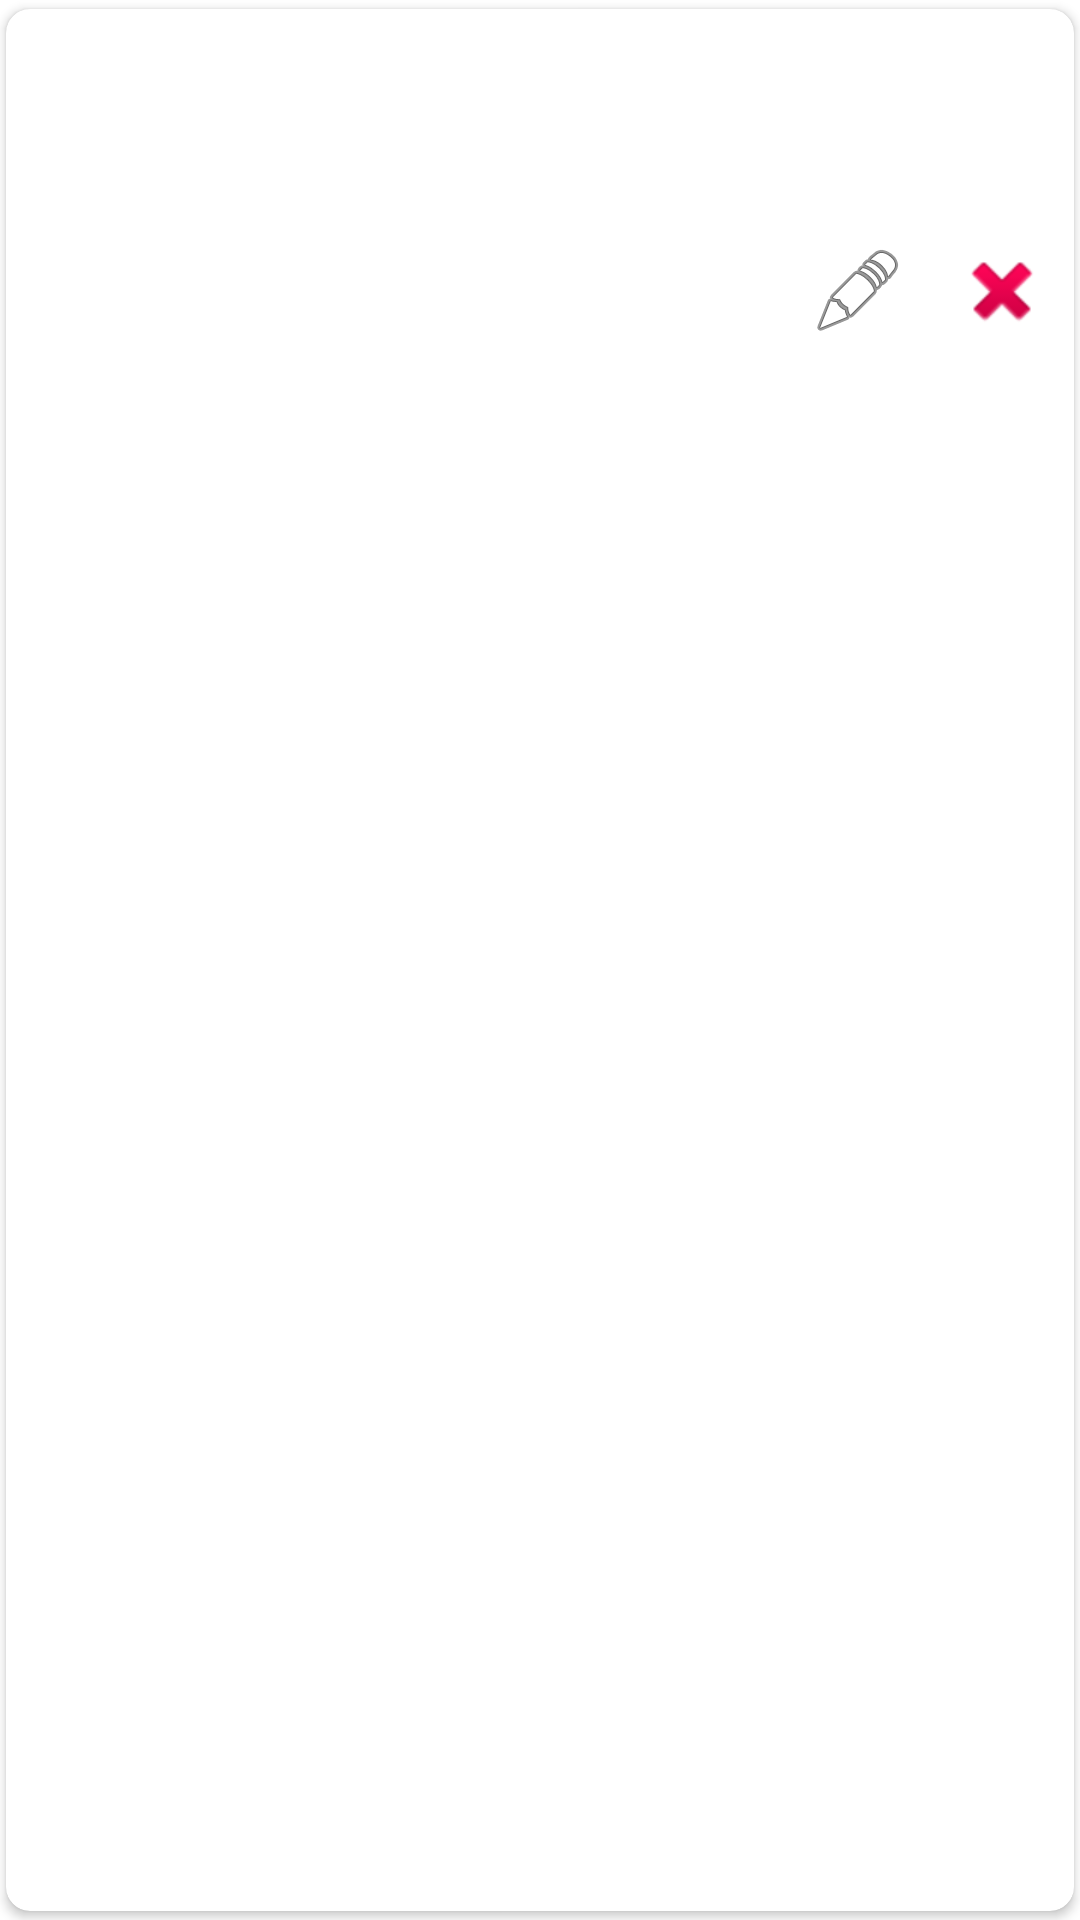

Icon click points for this 1080px×1920px phone screenshot, format (x,y):
Editar: (857,290)
Excluir: (1002,291)
